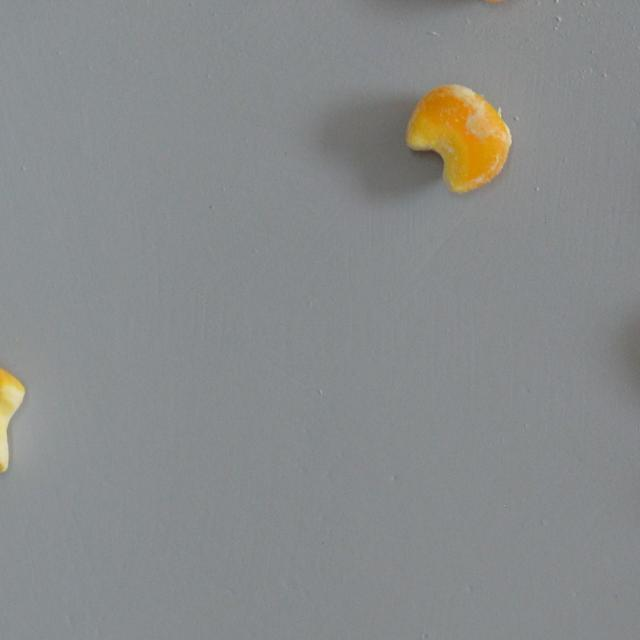no_canjicado: (0, 364, 27, 475)
pelicula: (406, 84, 512, 193)
